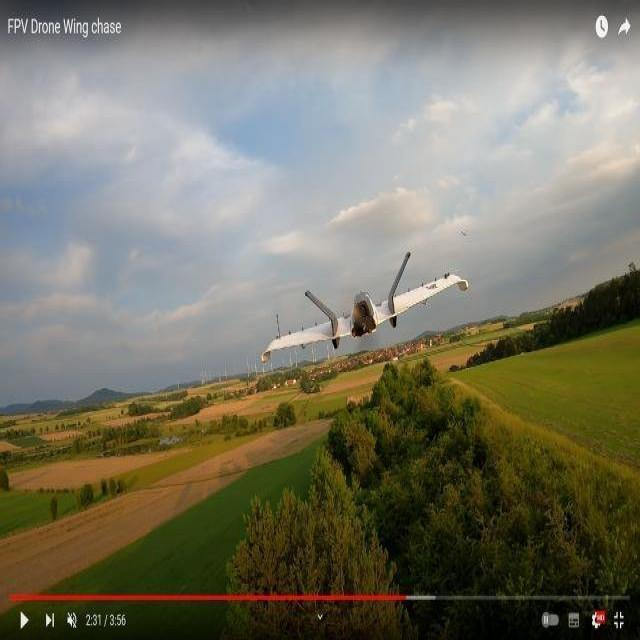Airplane: (254, 246, 478, 364)
